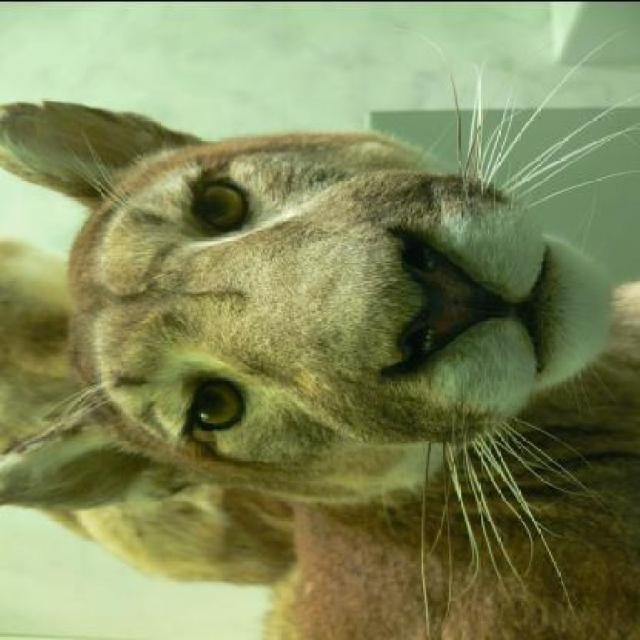Lion: (3, 60, 639, 638)
